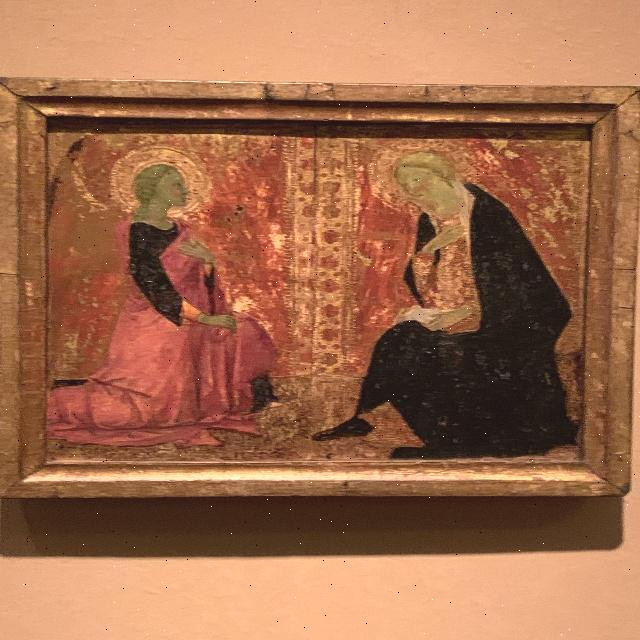aura: (370, 136, 491, 211), (114, 144, 215, 221)
saint: (103, 139, 282, 457), (374, 137, 556, 446)
